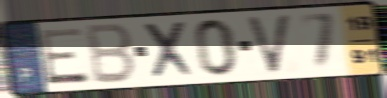0: (192, 18, 241, 79)
7: (297, 12, 339, 73)
B: (86, 21, 138, 86)
E: (36, 26, 91, 88)
V: (243, 12, 294, 77)
X: (140, 20, 200, 82)
